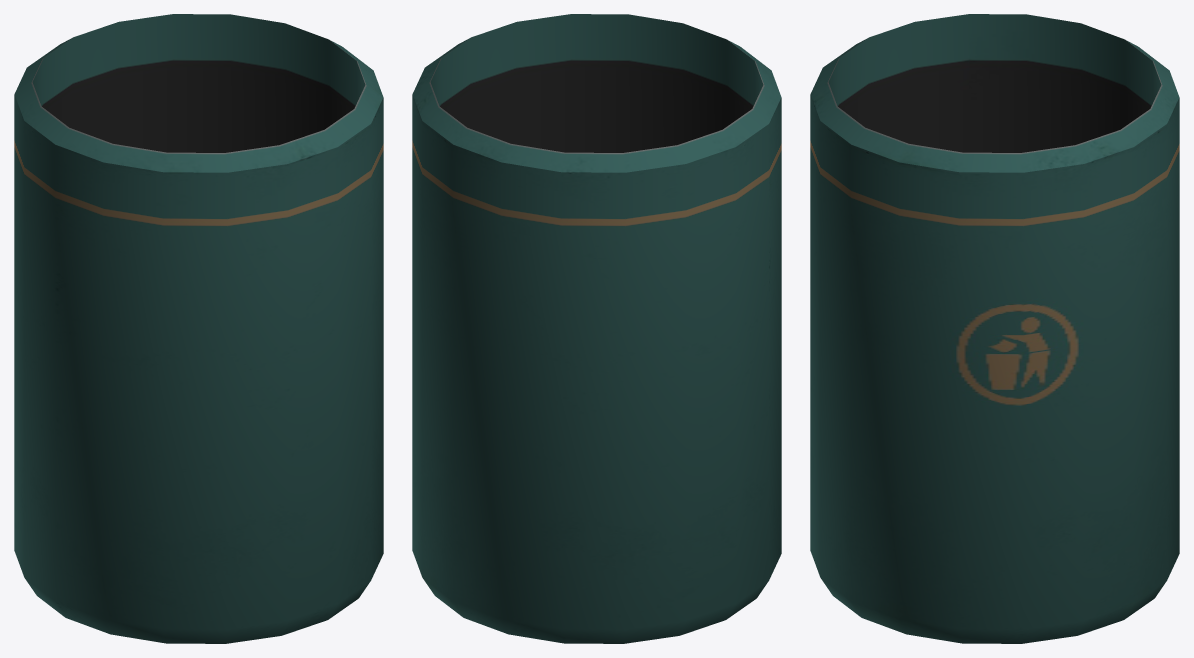
File: tempat sampah 1.fbx
3 views of the same model, side by side, from view 1: azimuth 30°, elevation 25°; view 2: azimuth 150°, elevation 25°; view 3: azimuth 270°, elevation 25° (orthographic).
Visible parts, largest first — view 1: tempat sampah; view 2: tempat sampah; view 3: tempat sampah.
Boxes of the visible parts, <box> form: tempat sampah: <box>14,14,383,643</box>; tempat sampah: <box>412,14,781,643</box>; tempat sampah: <box>810,14,1179,643</box>.
Bounding box in the file's own units: 197 × 291 × 199.
1 material, 1 textured.
